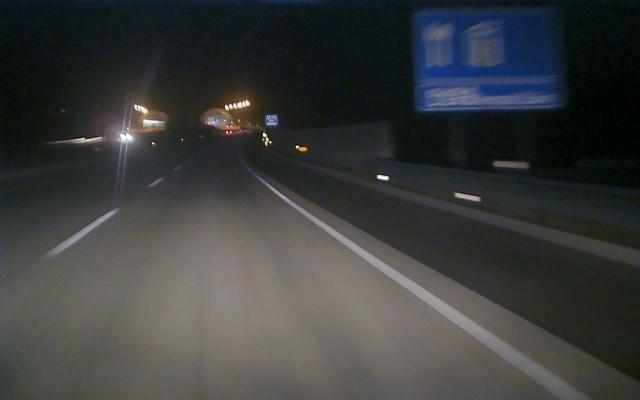lane: (269, 185, 598, 400), (47, 177, 163, 256)
